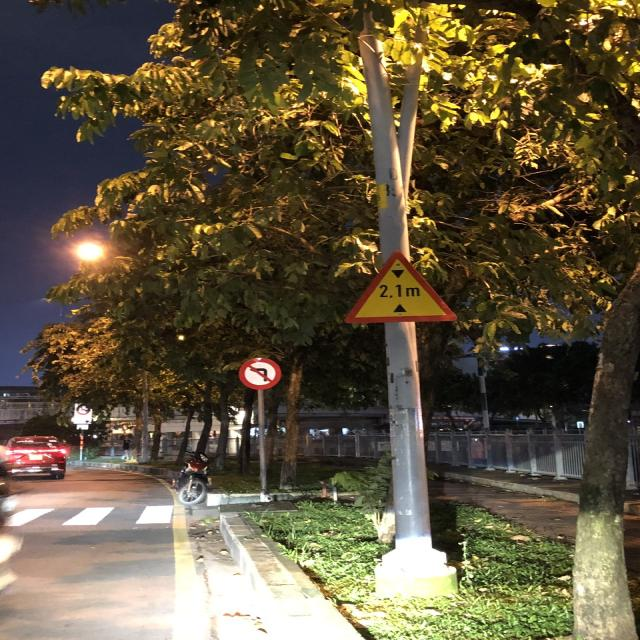Bien bao cam re trai: (231, 352, 289, 391)
Bien bao chieu cao tinh khong thuc te: (338, 250, 467, 328)
